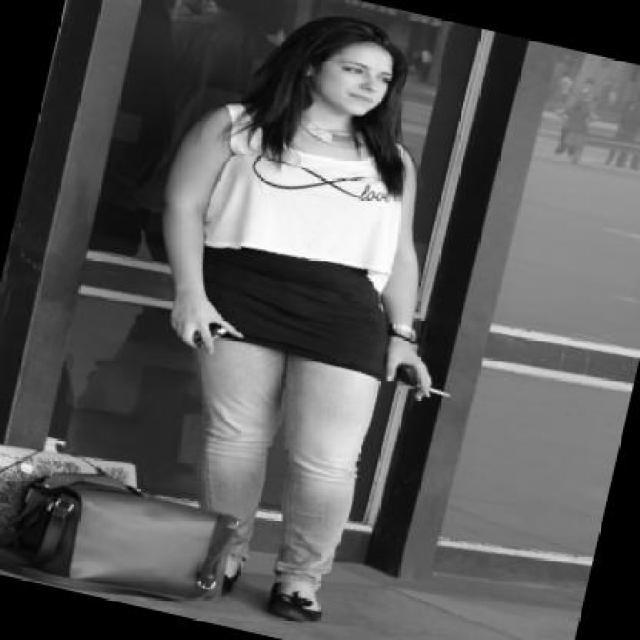smoke: (422, 386, 455, 400)
